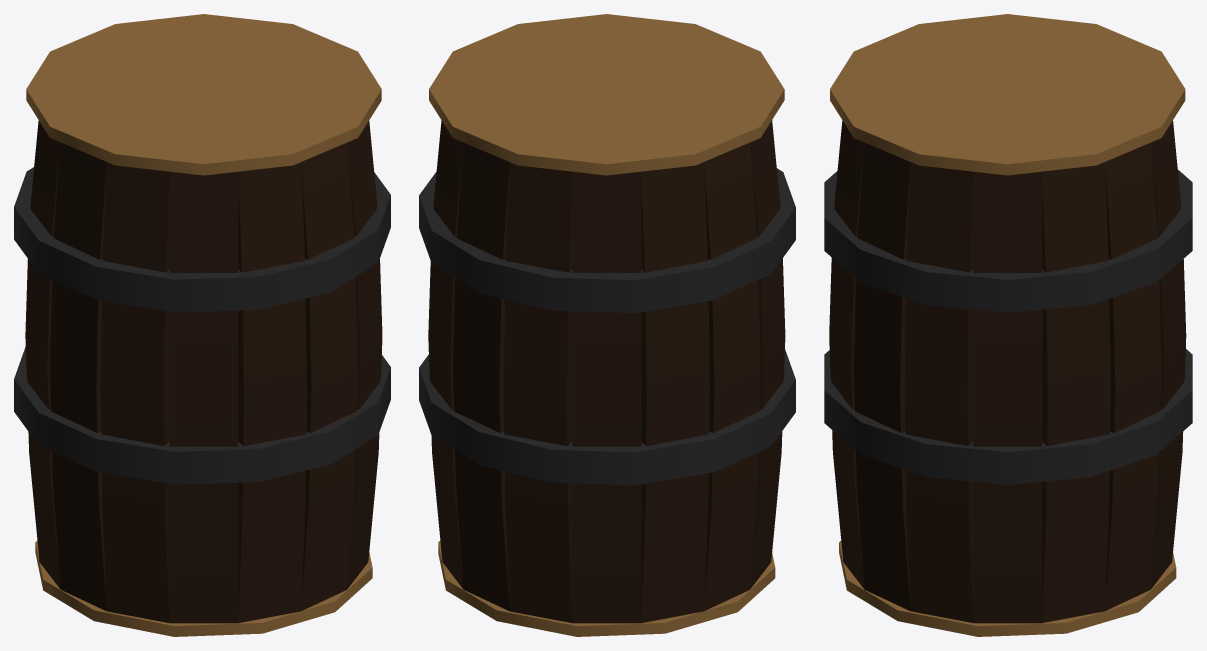
The model's file is beczka.FBX.
3 views of the same model, side by side, from view 1: azimuth 30°, elevation 25°; view 2: azimuth 150°, elevation 25°; view 3: azimuth 270°, elevation 25° (orthographic).
Visible parts, largest first — view 1: Barrel1; view 2: Barrel1; view 3: Barrel1.
Part boxes in pixels (box(x1,y1,x2,y2)): Barrel1: box(14, 14, 390, 636); Barrel1: box(419, 14, 795, 636); Barrel1: box(824, 14, 1192, 636).
Size of the model in its own units: 38.47 by 53.54 by 37.5.
